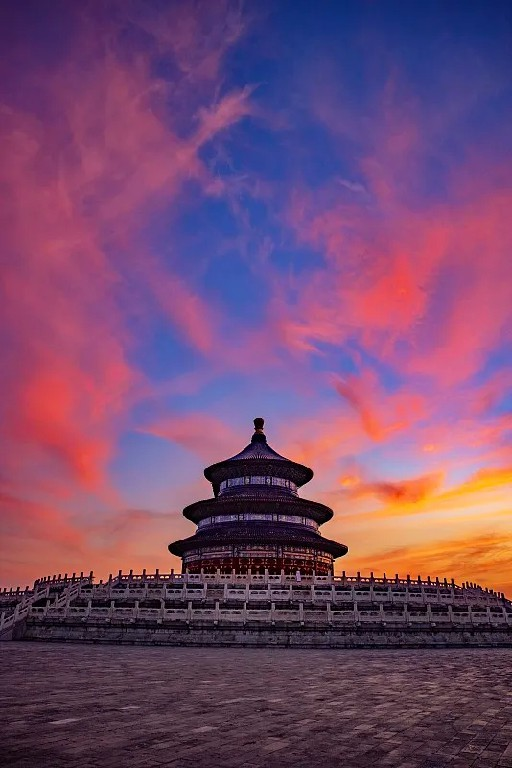Heaven: (166, 418, 348, 581)
